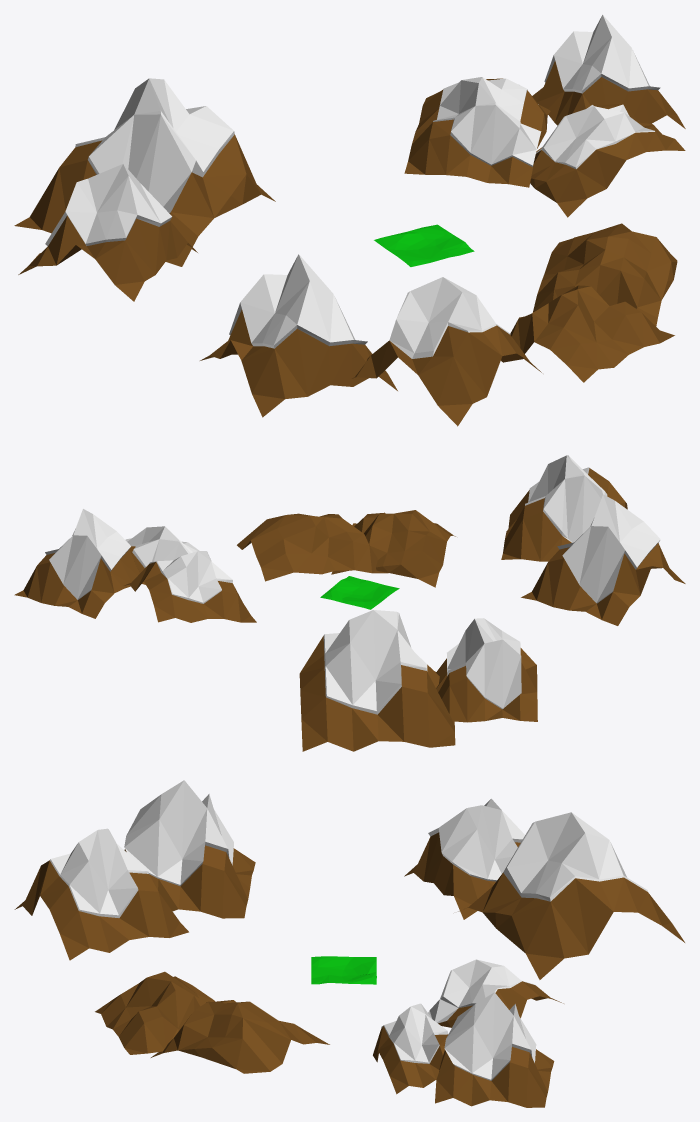
File: Landscape 1.fbx
The picture shows the model from 3 angles, top to bottom: view 1: azimuth 30°, elevation 25°; view 2: azimuth 150°, elevation 25°; view 3: azimuth 270°, elevation 25°; orthographic projection. The views are drawn at different scales.
Parts seen in each view (by area): view 1: Plane.005, Plane.003, Plane.004, Plane.007, Plane.006, Plane.008, Plane.010, Plane.009, Plane.011, Plane.001; view 2: Plane.005, Plane.003, Plane.006, Plane.009, Plane.004, Plane.010, Plane.007, Plane.011, Plane.008, Plane.001; view 3: Plane.005, Plane.004, Plane.003, Plane.009, Plane.006, Plane.010, Plane.011, Plane.008, Plane.007, Plane.001.
Boxes of the visible parts, bbox=[...] form: Plane.005: bbox=[14, 78, 275, 266]; Plane.003: bbox=[200, 254, 397, 417]; Plane.004: bbox=[352, 277, 541, 426]; Plane.007: bbox=[404, 77, 550, 187]; Plane.006: bbox=[18, 164, 197, 301]; Plane.008: bbox=[530, 104, 685, 217]; Plane.010: bbox=[532, 223, 677, 326]; Plane.009: bbox=[532, 14, 685, 128]; Plane.011: bbox=[510, 285, 674, 382]; Plane.001: bbox=[374, 224, 474, 266]; Plane.005: bbox=[299, 610, 455, 751]; Plane.003: bbox=[521, 494, 685, 625]; Plane.006: bbox=[436, 618, 537, 722]; Plane.009: bbox=[14, 509, 139, 618]; Plane.004: bbox=[501, 455, 627, 561]; Plane.010: bbox=[237, 513, 388, 581]; Plane.007: bbox=[124, 551, 256, 622]; Plane.011: bbox=[331, 510, 455, 587]; Plane.008: bbox=[125, 526, 199, 584]; Plane.001: bbox=[320, 576, 399, 609]; Plane.005: bbox=[458, 812, 684, 979]; Plane.004: bbox=[14, 828, 188, 960]; Plane.003: bbox=[124, 780, 255, 918]; Plane.009: bbox=[435, 992, 554, 1107]; Plane.006: bbox=[404, 798, 524, 919]; Plane.010: bbox=[151, 1000, 329, 1073]; Plane.011: bbox=[95, 971, 214, 1054]; Plane.008: bbox=[373, 1003, 448, 1094]; Plane.007: bbox=[428, 959, 563, 1027]; Plane.001: bbox=[311, 956, 376, 984].
Bounding box in the file's own units: 19920 × 4791 × 20623.
